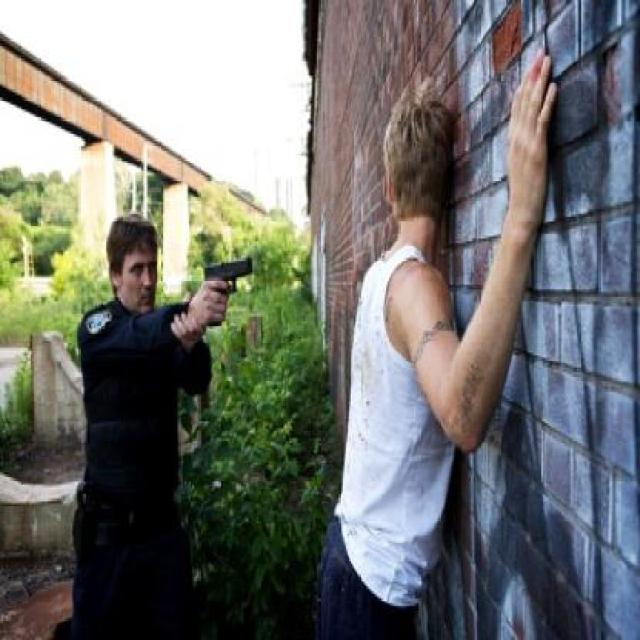guns: (203, 259, 255, 326)
